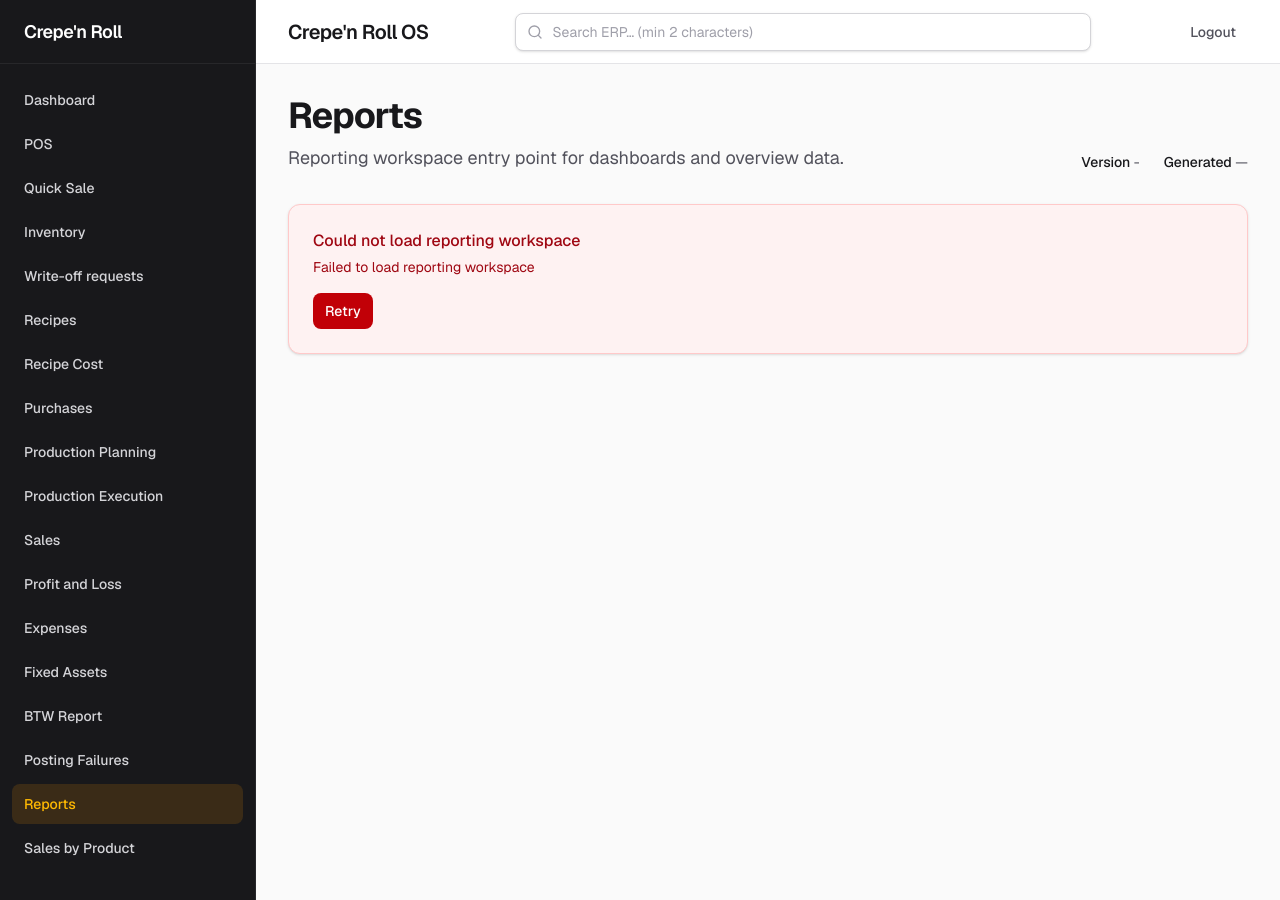
Test: ReportingWorkspacePage (DEV-076 UI) › shows error state with accessibility alert and retry
Expected: the message shows "Could not load reporting workspace", [313,230,580,251]
Expected: the message shows "Failed to load reporting workspace", [313,258,535,276]
Step 1. Click the button "Retry" → point(343, 311), box [313,293,373,329]
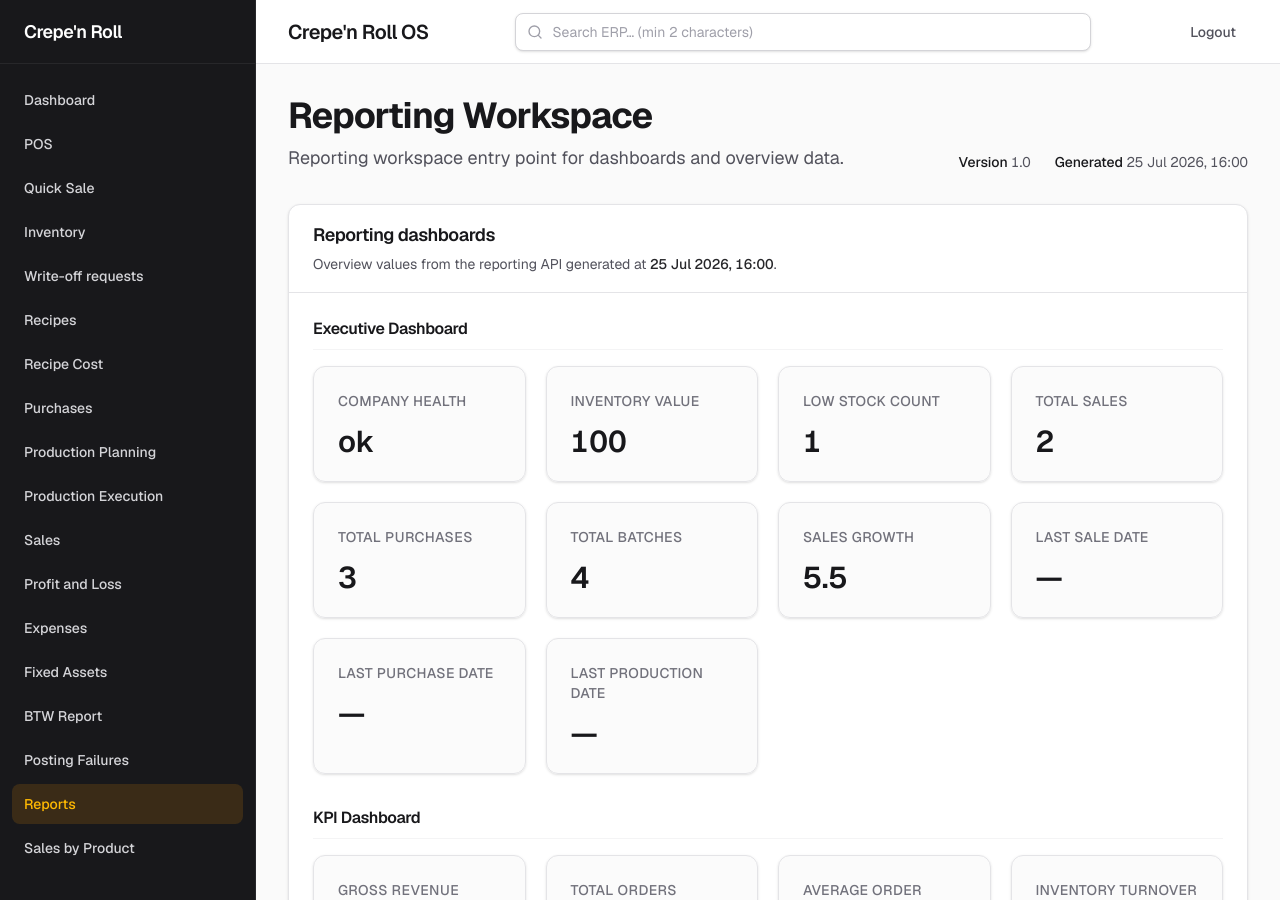
Expected: the heading "Reporting Workspace" is shown, [288,92,652,139]
